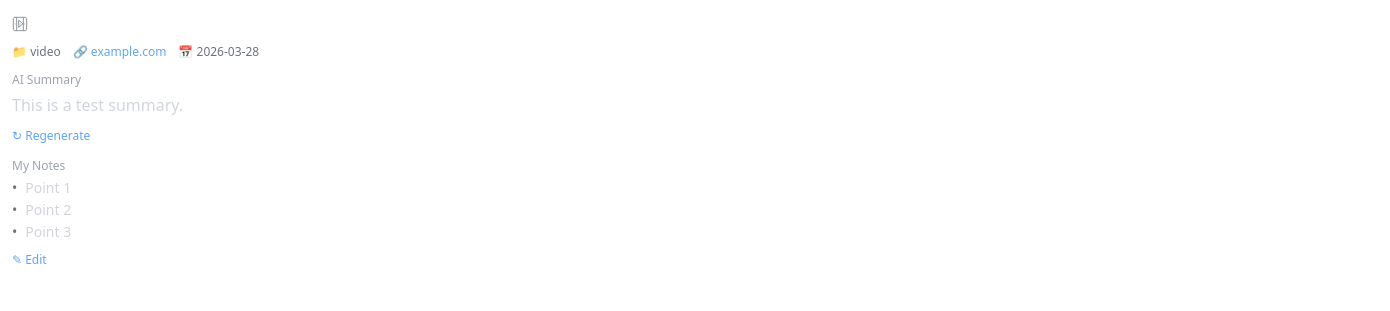
Test case: ChapterCard › shows textarea and buttons when Edit is clicked
Click the button "✎ Edit" at (29, 260), box [12,252,47,268]
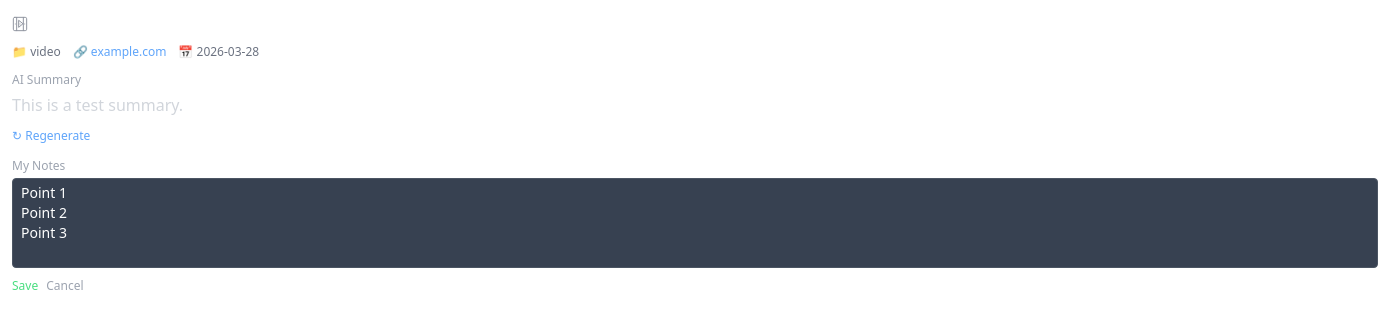
Now the text box is shown, box [12,178,1378,268]
Now the button "Save" is shown, box [12,278,38,294]
Now the button "Cancel" is shown, box [46,278,84,294]
